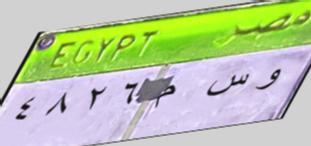2: (86, 85, 108, 112)
4: (13, 93, 36, 126)
6: (118, 80, 140, 110)
8: (43, 92, 70, 119)
meem: (151, 81, 179, 111)
seen: (204, 70, 249, 102)
waw: (252, 64, 283, 96)
